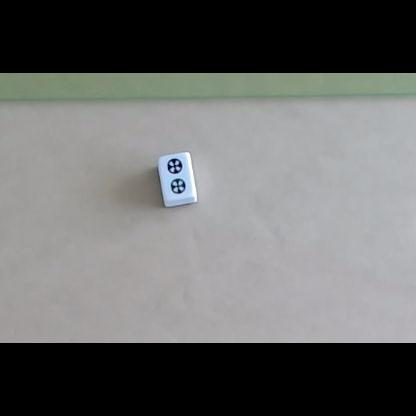2p: (166, 157, 187, 196)
